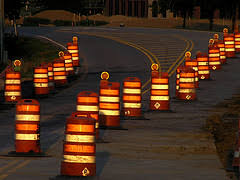barrel: (60, 116, 94, 174), (16, 101, 41, 153), (100, 80, 120, 129), (77, 93, 98, 138), (151, 72, 170, 110), (124, 78, 141, 117), (176, 67, 195, 98), (32, 66, 49, 97), (4, 72, 21, 102), (51, 60, 68, 84), (184, 60, 198, 87), (60, 53, 75, 77), (41, 64, 55, 89), (67, 43, 79, 65), (197, 56, 209, 78), (224, 36, 235, 55), (210, 47, 219, 69), (218, 41, 225, 60), (233, 33, 240, 48)
